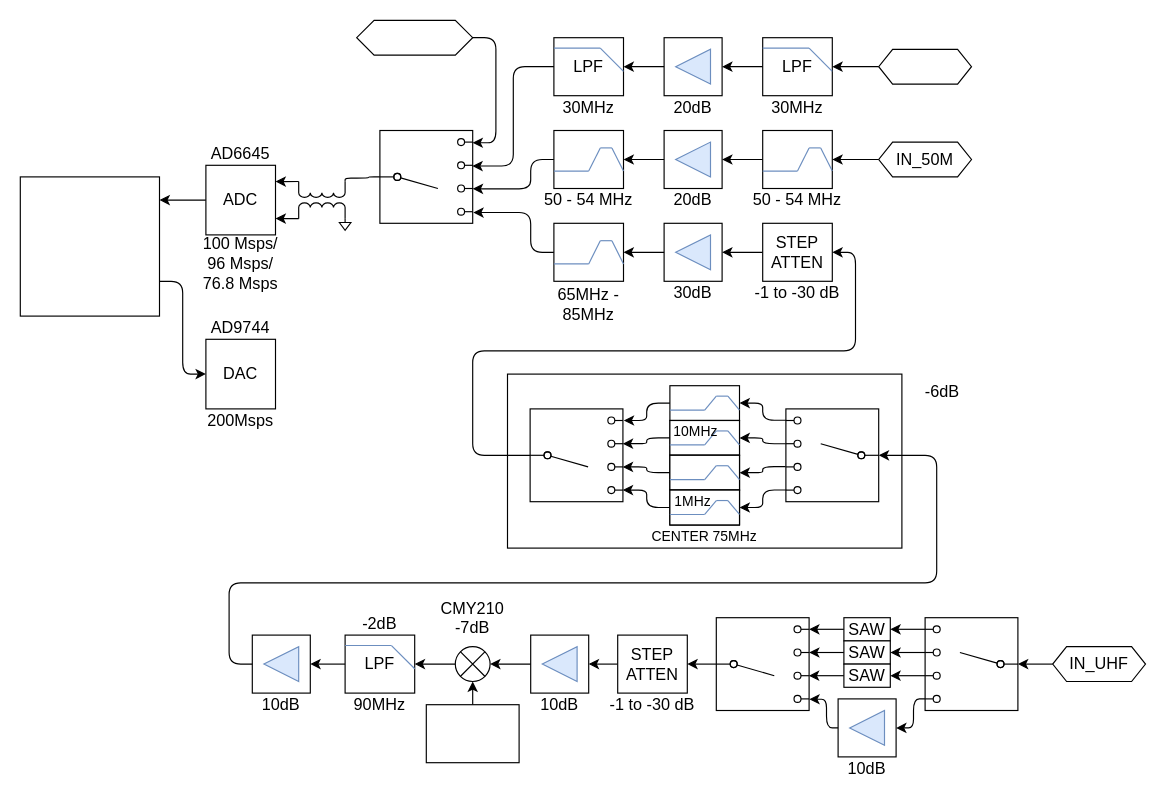
Some shapes in this 1166 by 800 pixel diagram are drawn without their labels. The centre of each missing label's shape, as x and y in pixels:
20MHz: point 704,402
5MHz: point 704,472
ADF4350: point 472,733
IN_DIRECT: point 414,37
IN_HF: point 924,66
Zynq-7020: point 89,246
